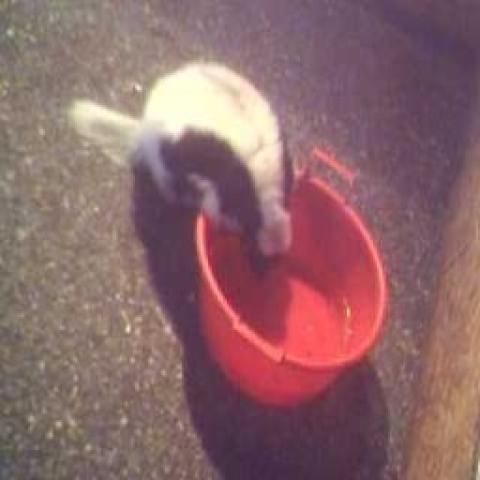small_animal: (59, 50, 293, 277)
